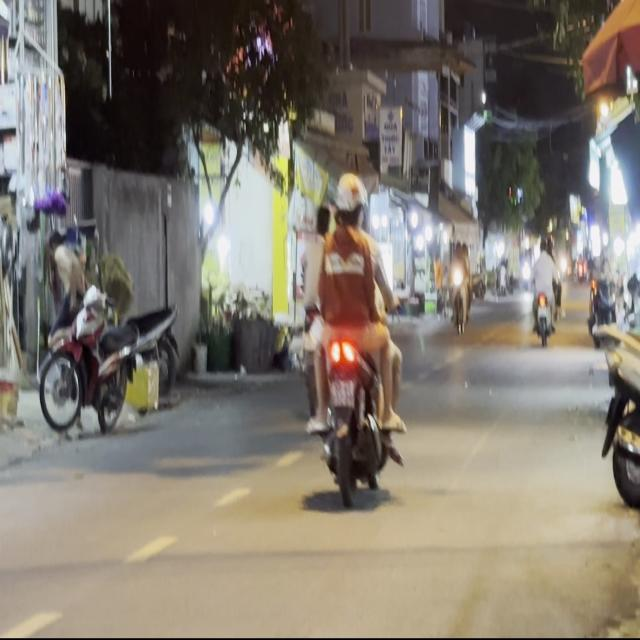helmet: (332, 171, 362, 225)
licenseplate: (303, 168, 405, 505)
nohelmet: (329, 379, 354, 405)
